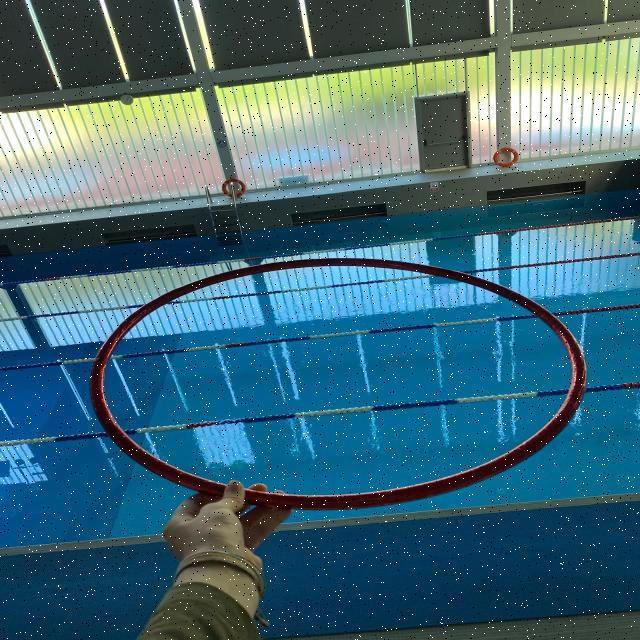Circle: (80, 254, 590, 511)
